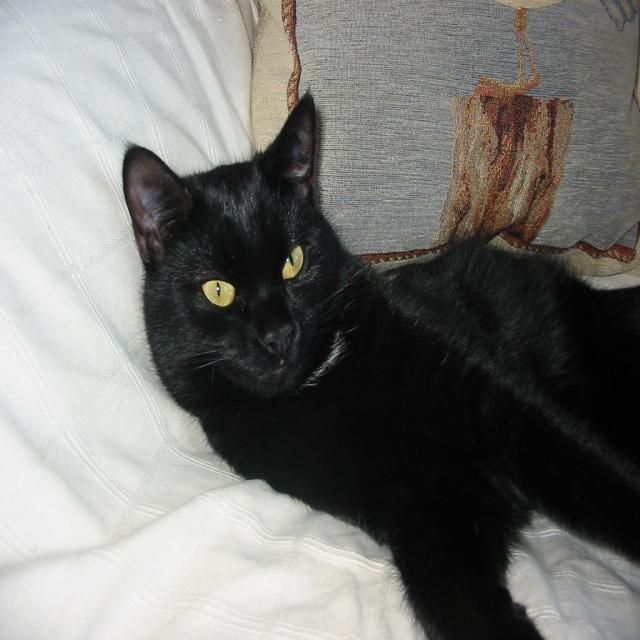cat: (122, 89, 640, 640)
